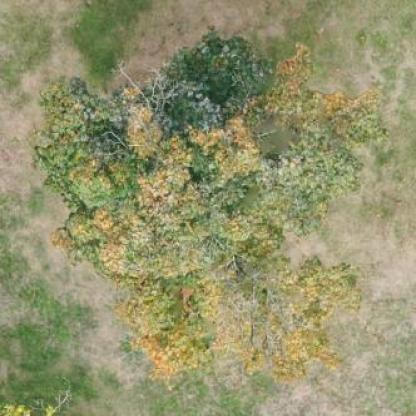Deciduous Tree: (30, 21, 389, 381)
